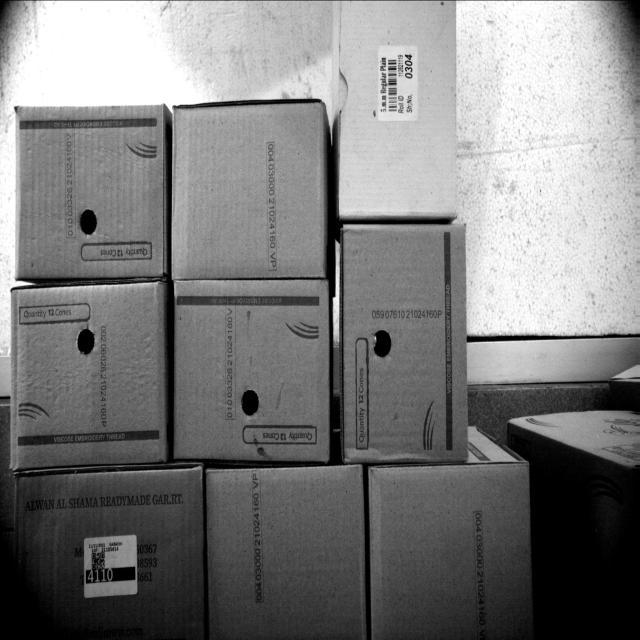box: (11, 475, 208, 639), (340, 223, 470, 461), (364, 466, 534, 639), (174, 282, 334, 464), (11, 282, 170, 464), (17, 103, 172, 279), (205, 472, 368, 639), (170, 103, 324, 279), (340, 0, 460, 218)
